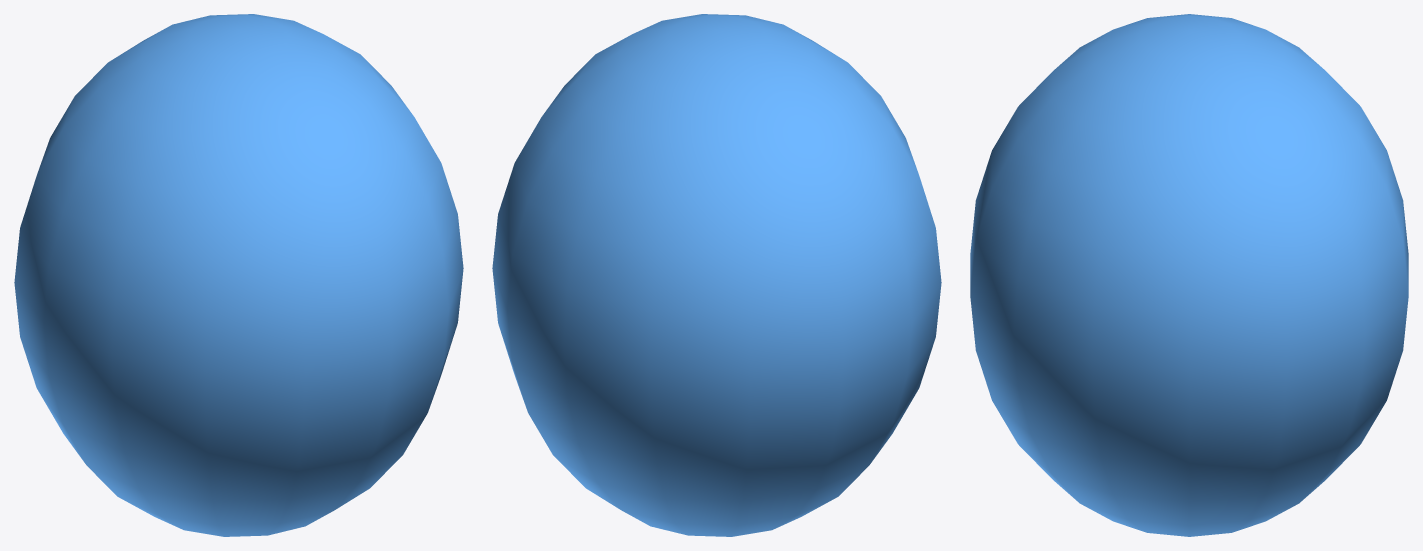
File: Tempestália_stage3.obj
3 views of the same model, side by side, from view 1: azimuth 30°, elevation 25°; view 2: azimuth 150°, elevation 25°; view 3: azimuth 270°, elevation 25° (orthographic).
Size of the model in its own units: 2.6 by 3.12 by 2.53.
